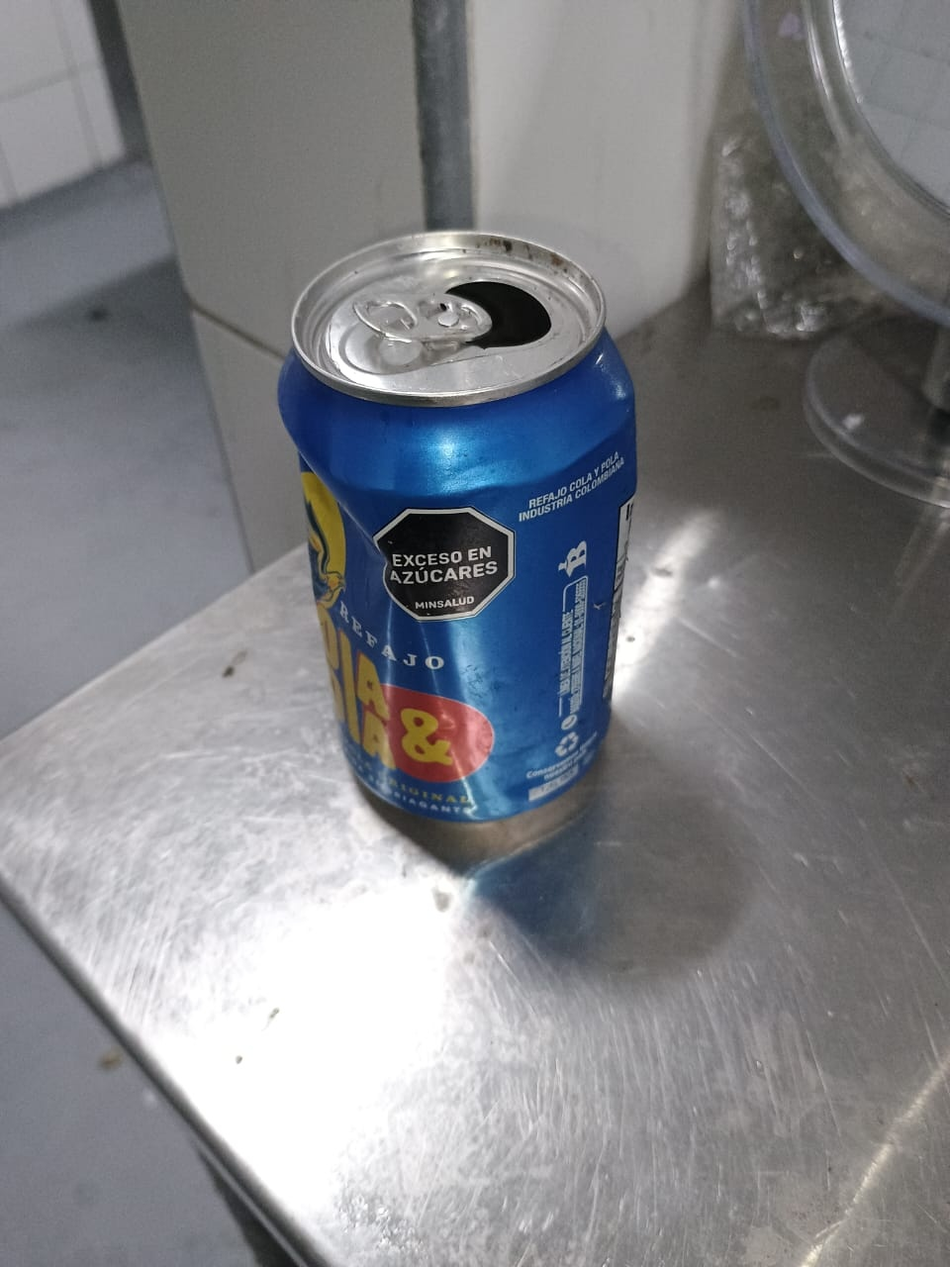Metal: (270, 230, 638, 825)
